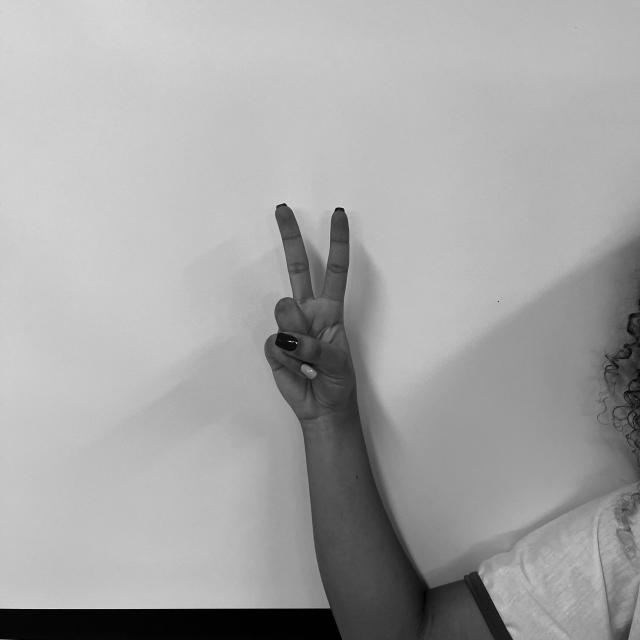Letra V: (262, 199, 364, 419)
